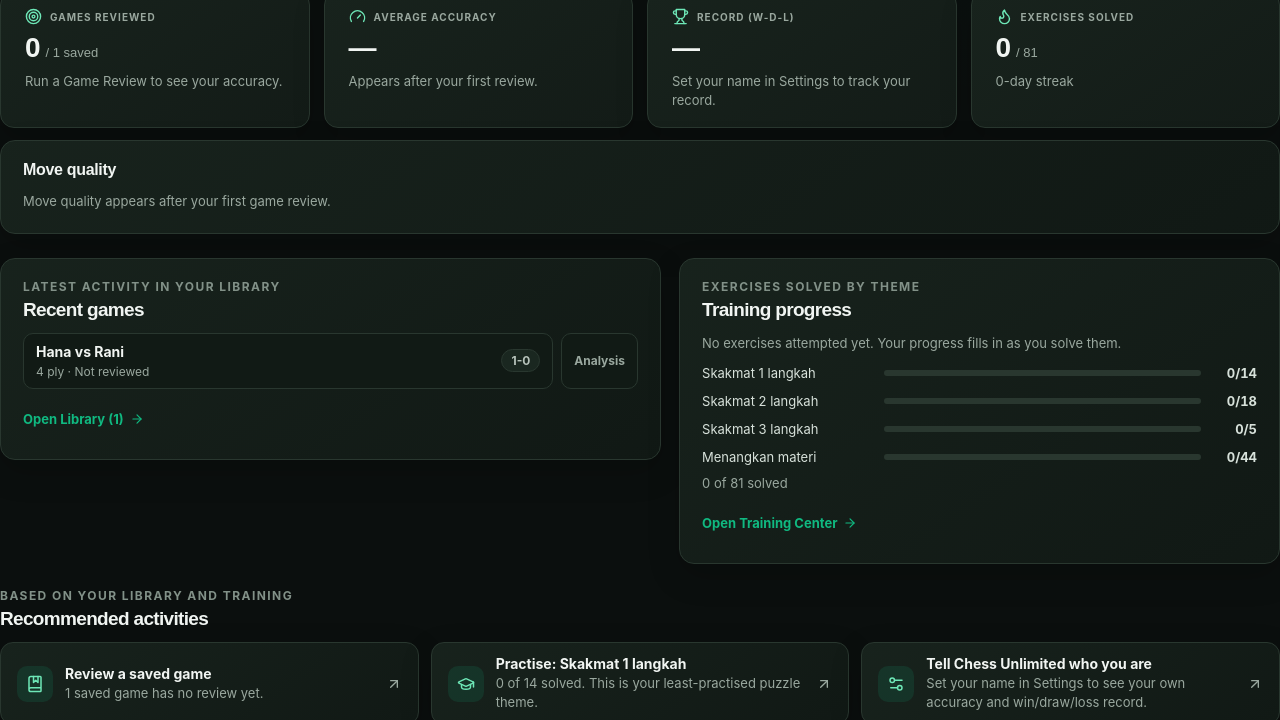
it: Dashboard: Continue learning › opens a recent game in Analysis at the end of the line
(page scrolled)
Click the button with aria-label "Open Hana vs Rani in Analysis Studio" at (600, 361), box [561,333,638,389]
(page scrolled)
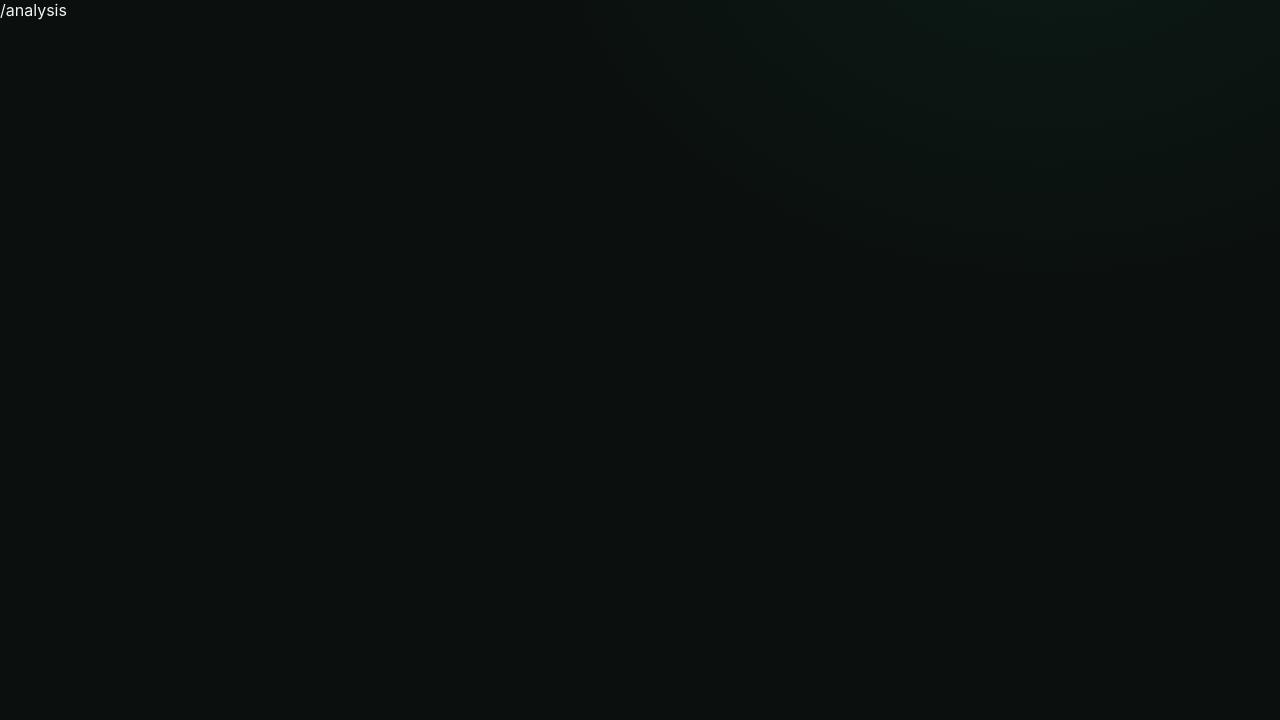
Expected: the text with test id "location" reads "/analysis", [0,0,67,20]
